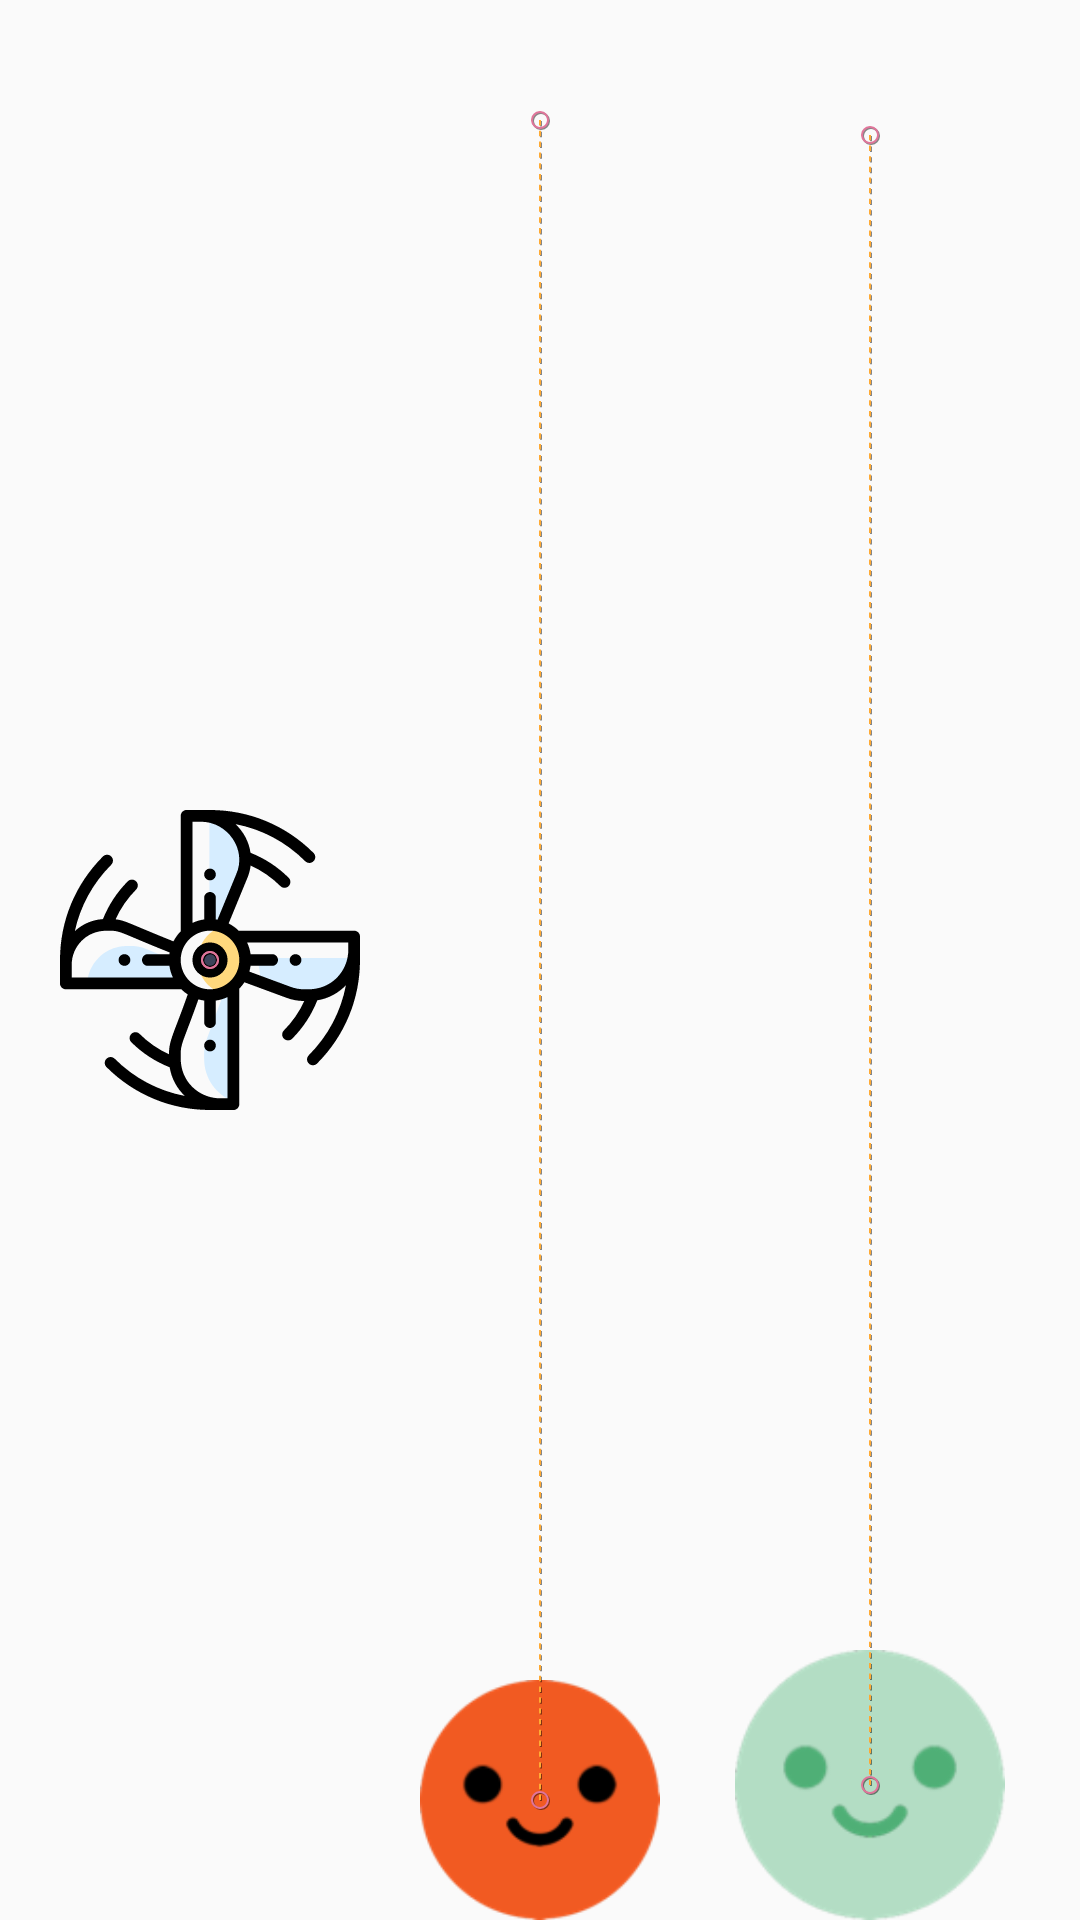

Screen size 1080x1920. Icon name, then its box in pixels as (x1, y1, x2, y2):
engine propeller: (60, 810, 360, 1110)
turuncu: (420, 1680, 660, 1920)
yesil: (735, 1650, 1005, 1920)
